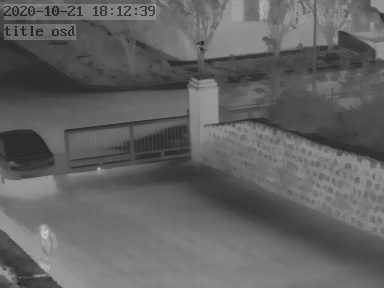person: (37, 220, 58, 276)
vehicle: (1, 126, 56, 185)
